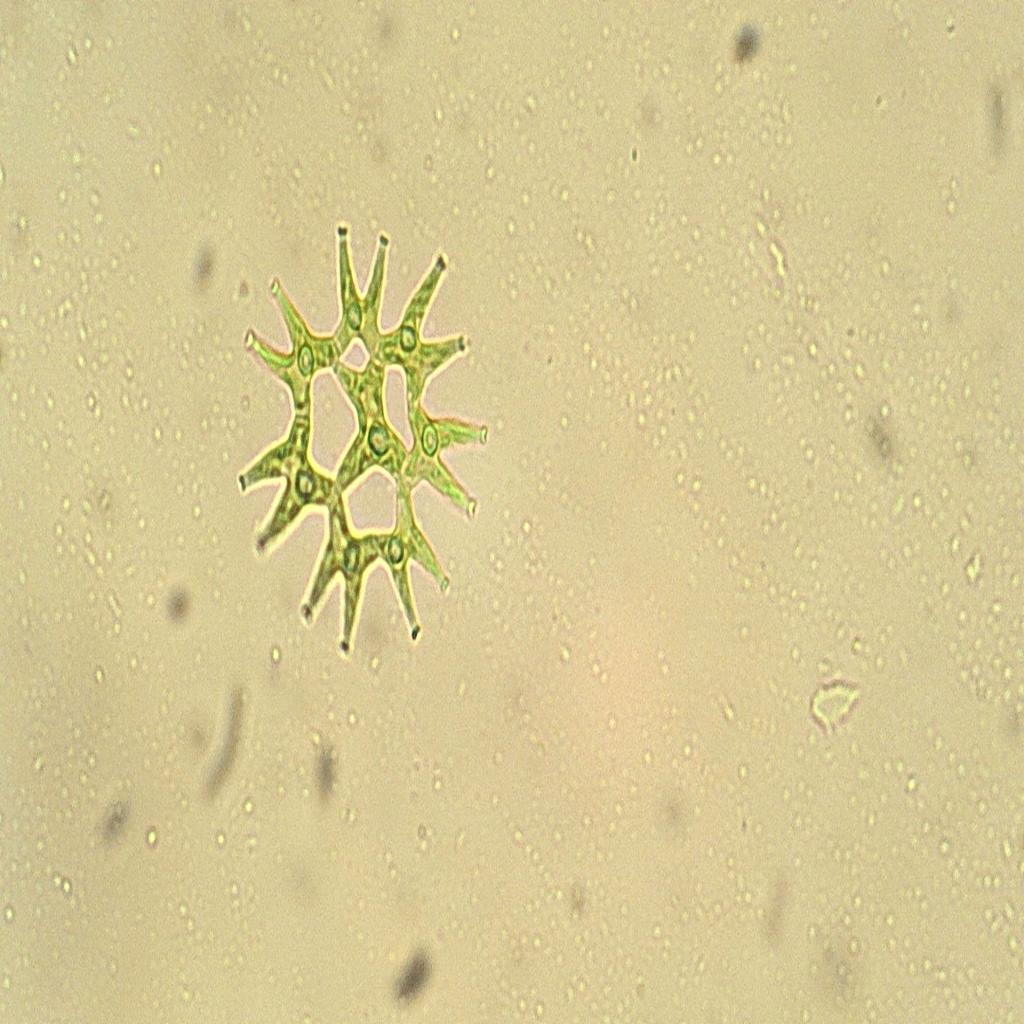Pediastrum_CTH: (224, 192, 500, 695)
